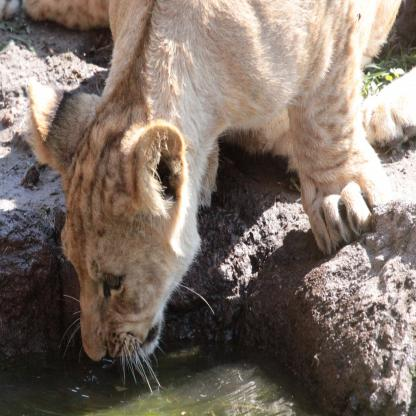lion: (60, 133, 192, 367)
